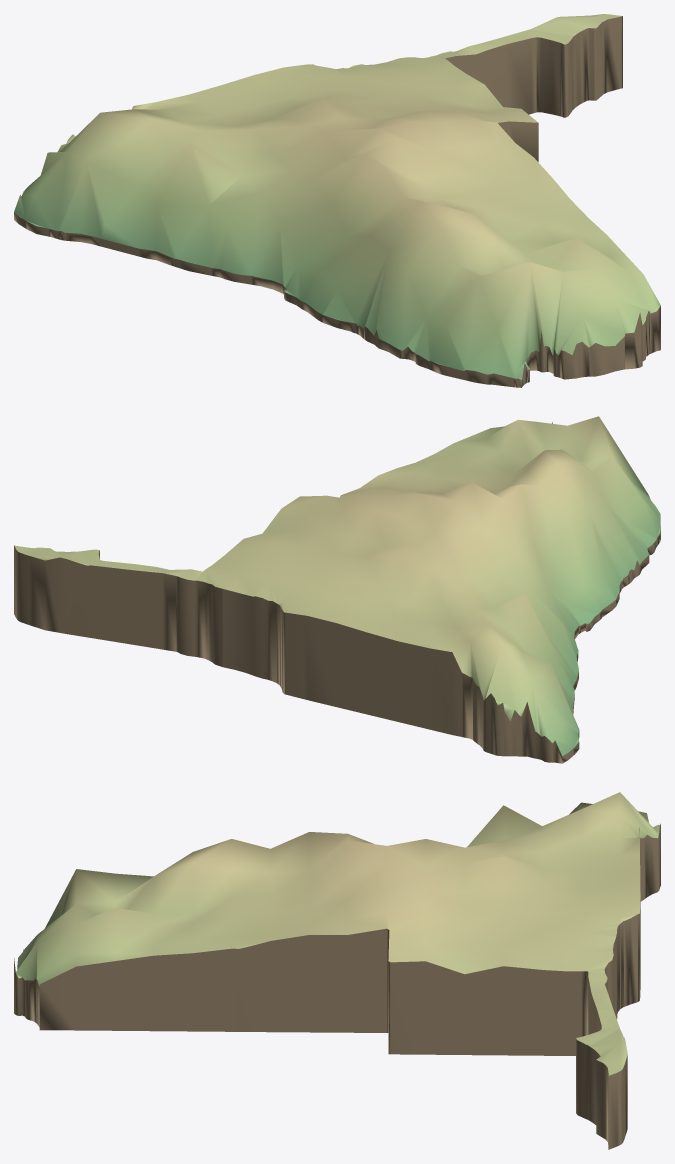
Rendered from NAM.glb.
3 views of the same model, one above another, from view 1: azimuth 30°, elevation 25°; view 2: azimuth 150°, elevation 25°; view 3: azimuth 270°, elevation 25° (orthographic). The views are drawn at different scales.
Parts seen in each view (by area): view 1: NAM; view 2: NAM; view 3: NAM.
Part boxes in pixels (box(x1,y1,x2,y2)): NAM: box(14, 14, 660, 387); NAM: box(14, 416, 660, 763); NAM: box(14, 792, 660, 1149).
Size of the model in its own units: 1.42 by 0.2982 by 1.31.
